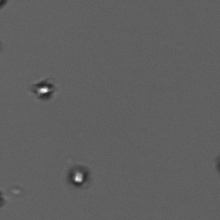Living Cell: (32, 79, 55, 99), (69, 165, 88, 187)
